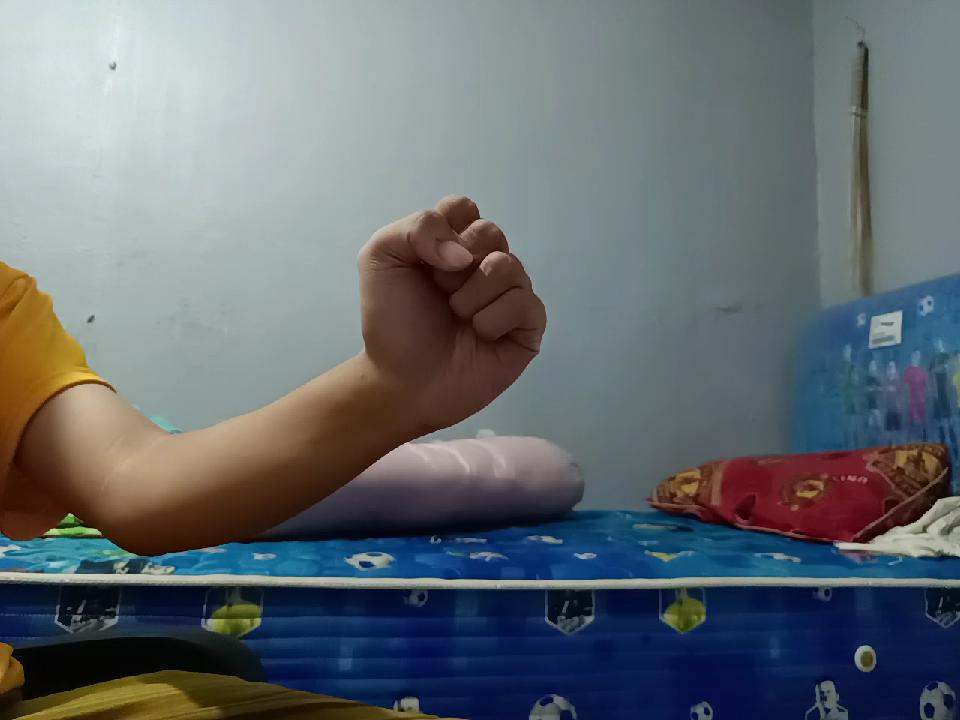rock: (359, 191, 552, 437)
